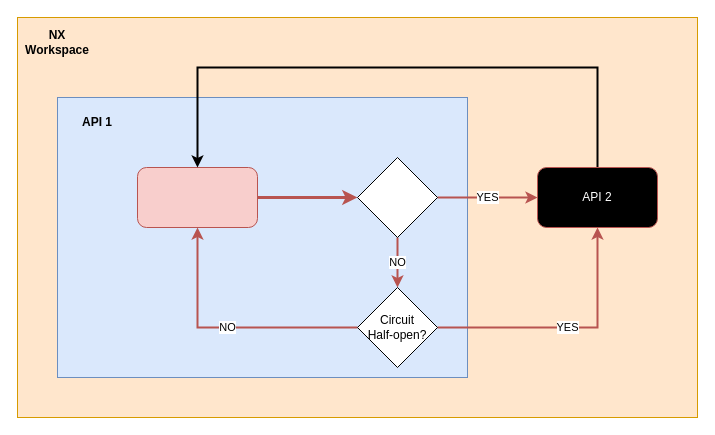
This 715x435 diagram has some shape labels left out. Each missing label, with the centre of its shape:
Circuit open?: point (397, 197)
Request to API 2: point (197, 197)
